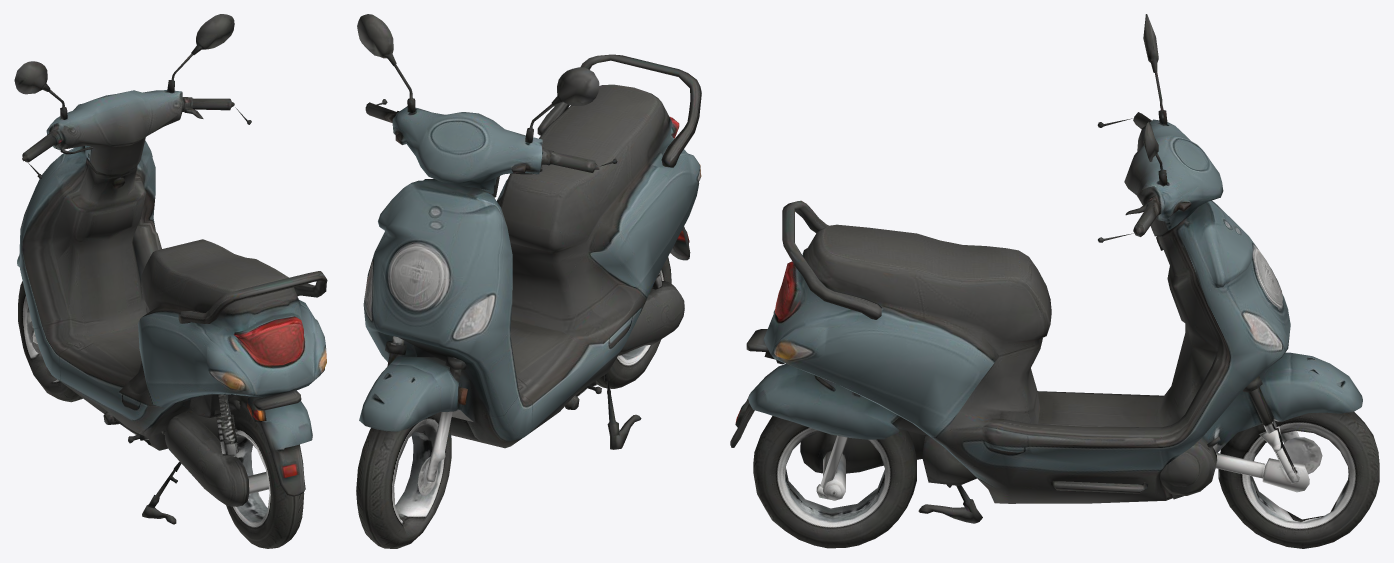
File: vehicle-scooter-neutral.glb
3 views of the same model, side by side, from view 1: azimuth 30°, elevation 25°; view 2: azimuth 150°, elevation 25°; view 3: azimuth 270°, elevation 25° (orthographic). The views are drawn at different scales.
Visible parts, largest first — view 1: tripo_node_413ebbed-6277-4cfa-bbe2-5c760f9f41dd; view 2: tripo_node_413ebbed-6277-4cfa-bbe2-5c760f9f41dd; view 3: tripo_node_413ebbed-6277-4cfa-bbe2-5c760f9f41dd.
Boxes of the visible parts, x1,y1,x2,y2 form: tripo_node_413ebbed-6277-4cfa-bbe2-5c760f9f41dd: [14, 14, 327, 548]; tripo_node_413ebbed-6277-4cfa-bbe2-5c760f9f41dd: [356, 14, 701, 548]; tripo_node_413ebbed-6277-4cfa-bbe2-5c760f9f41dd: [730, 14, 1379, 548].
Bounding box in the file's own units: 0.4551 × 0.8184 × 0.998.
Materials: 1 (1 with a texture image).
